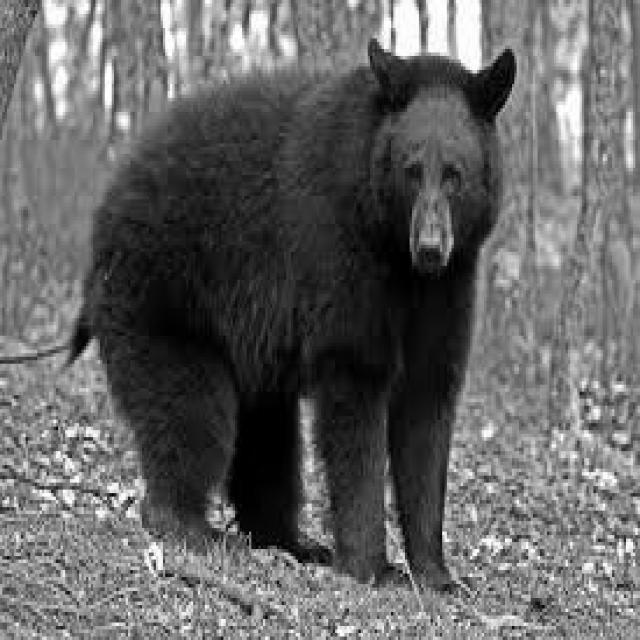Bear: (58, 35, 516, 594)
